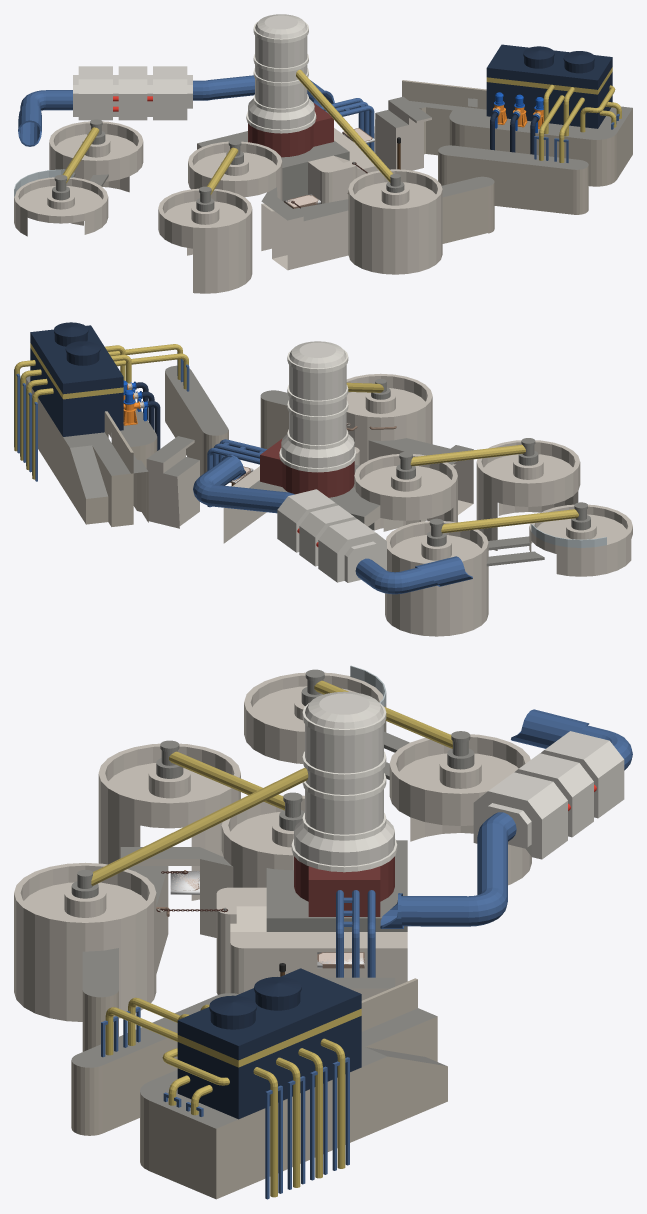
Rendered from ChainRoom.fbx.
3 renders of one model, top to bottom at view 1: azimuth 30°, elevation 25°; view 2: azimuth 150°, elevation 25°; view 3: azimuth 270°, elevation 25°, orthographic. The views are drawn at different scales.
Parts seen in each view (by area): view 1: Treatment, TreatmentPipes, ChainRoomGrayBox, Treatment.001.COL; view 2: Treatment, TreatmentPipes, ChainRoomGrayBox, Treatment.001.COL; view 3: Treatment, TreatmentPipes, ChainRoomGrayBox.
Part boxes in pixels (x1,y1,x2,y2): Treatment: [14, 14, 632, 293]; TreatmentPipes: [18, 66, 334, 146]; ChainRoomGrayBox: [261, 187, 348, 270]; Treatment.001.COL: [14, 169, 73, 196]; Treatment: [14, 322, 632, 636]; TreatmentPipes: [193, 454, 472, 594]; ChainRoomGrayBox: [368, 438, 473, 531]; Treatment.001.COL: [531, 524, 606, 547]; Treatment: [14, 669, 531, 1199]; TreatmentPipes: [380, 709, 632, 928]; ChainRoomGrayBox: [120, 847, 233, 973].
Size of what is drawn, in the model's own units: 128 by 38.01 by 78.22.
